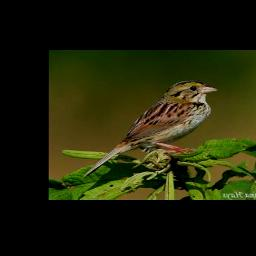Sparrow: (80, 78, 221, 180)
